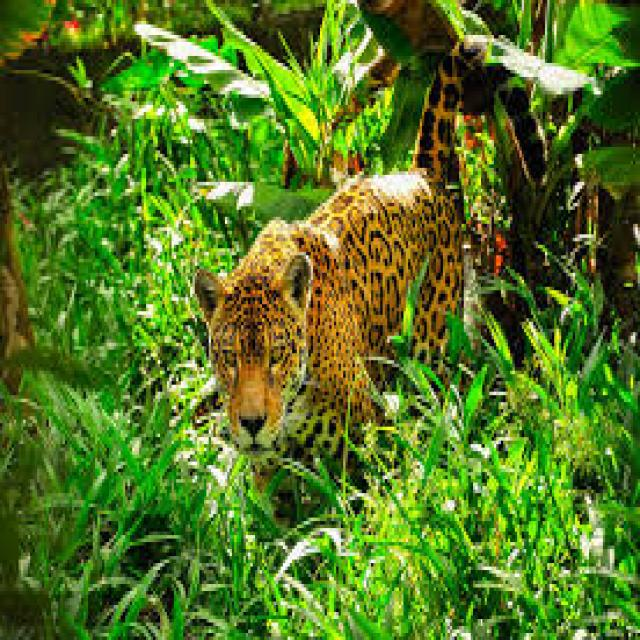Jaguar: (200, 25, 506, 528)
